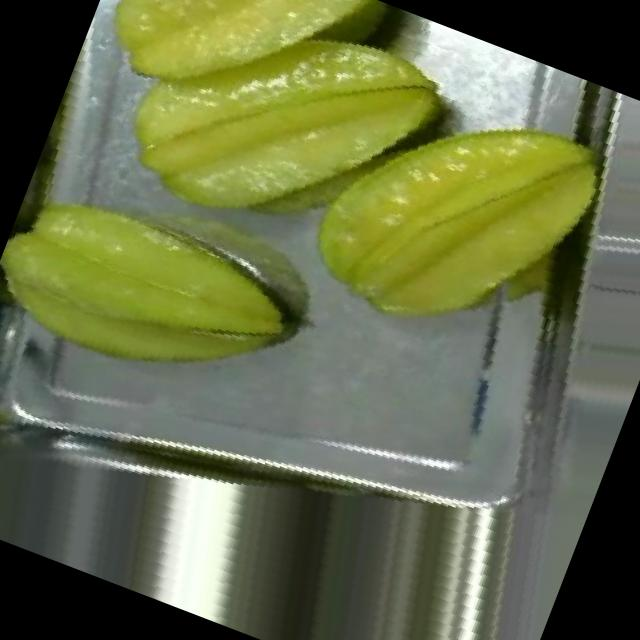fruit: (253, 31, 640, 407), (36, 0, 490, 315), (0, 101, 355, 460)
